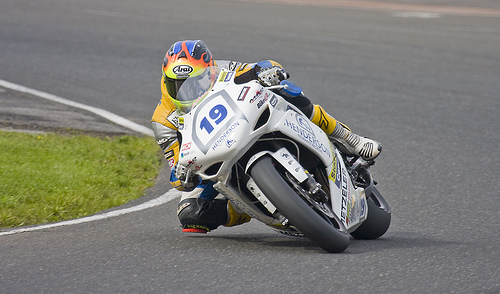helmet: (164, 36, 213, 106)
